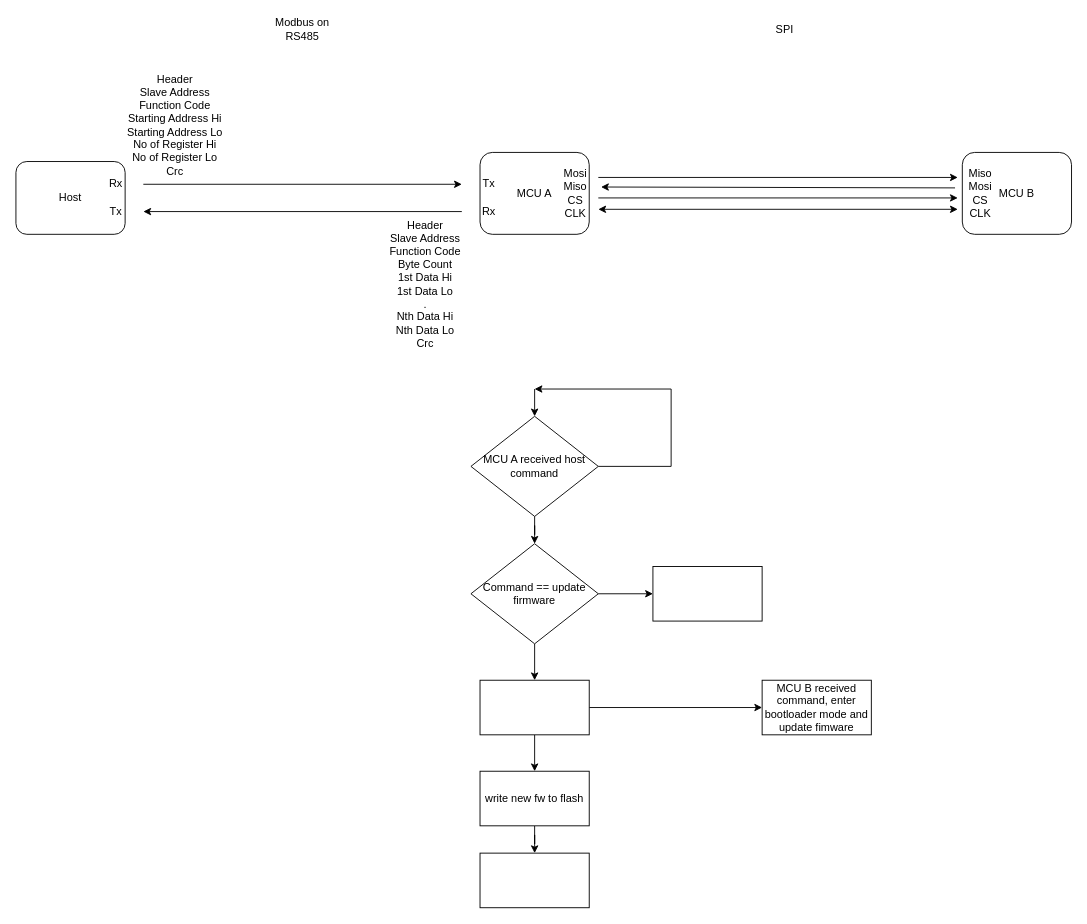
The diagram is 1087 pixels wide and 924 high, and some of its shapes have lost their labels. Here are the shapes that lost their labels. From the top down, the centre of each, then its label:
(707,593): Perform other task
(534,707): transmit data packet to MCU B
(534,880): Mcu A enter bootloader mode and update firmware
